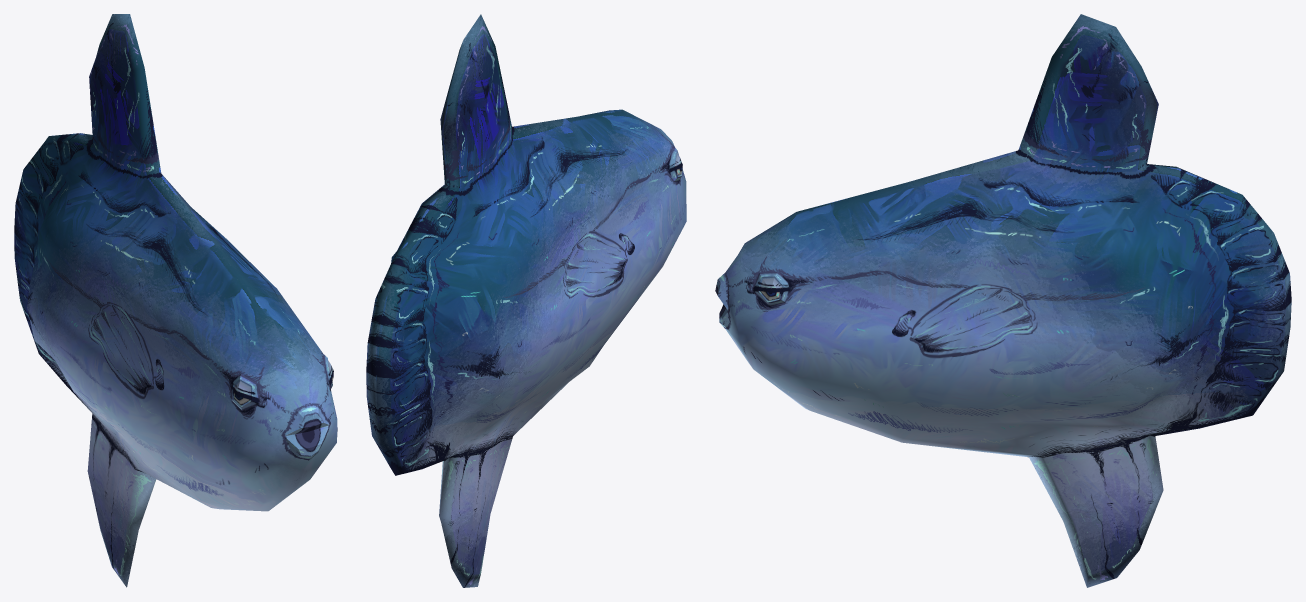
File: Sunfish.fbx
3 renders of one model, left to right at view 1: azimuth 30°, elevation 25°; view 2: azimuth 150°, elevation 25°; view 3: azimuth 270°, elevation 25°, orthographic.
Visible parts, largest first — view 1: Sunfish; view 2: Sunfish; view 3: Sunfish.
Boxes of the visible parts, bbox=[...] form: Sunfish: bbox=[14, 14, 337, 587]; Sunfish: bbox=[366, 14, 686, 587]; Sunfish: bbox=[715, 14, 1291, 587].
Size of the model in its own units: 1.19 by 4.83 by 4.4.
Materials: 1 (1 with a texture image).
